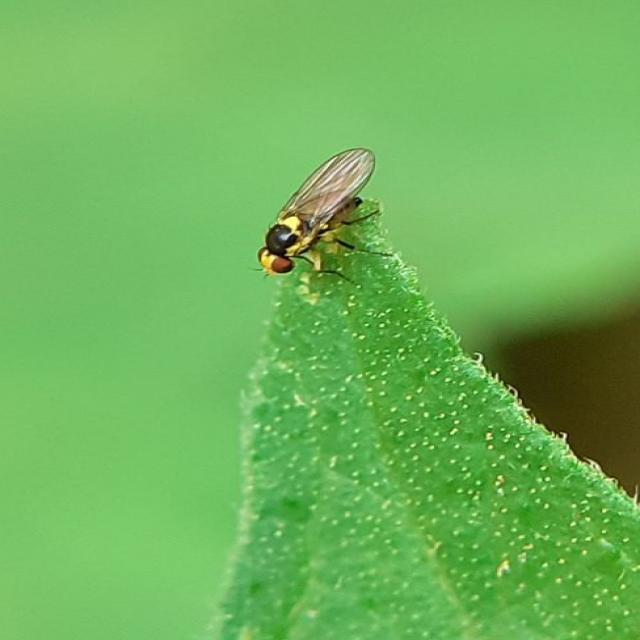Serpentine leafminer: (247, 146, 394, 285)
